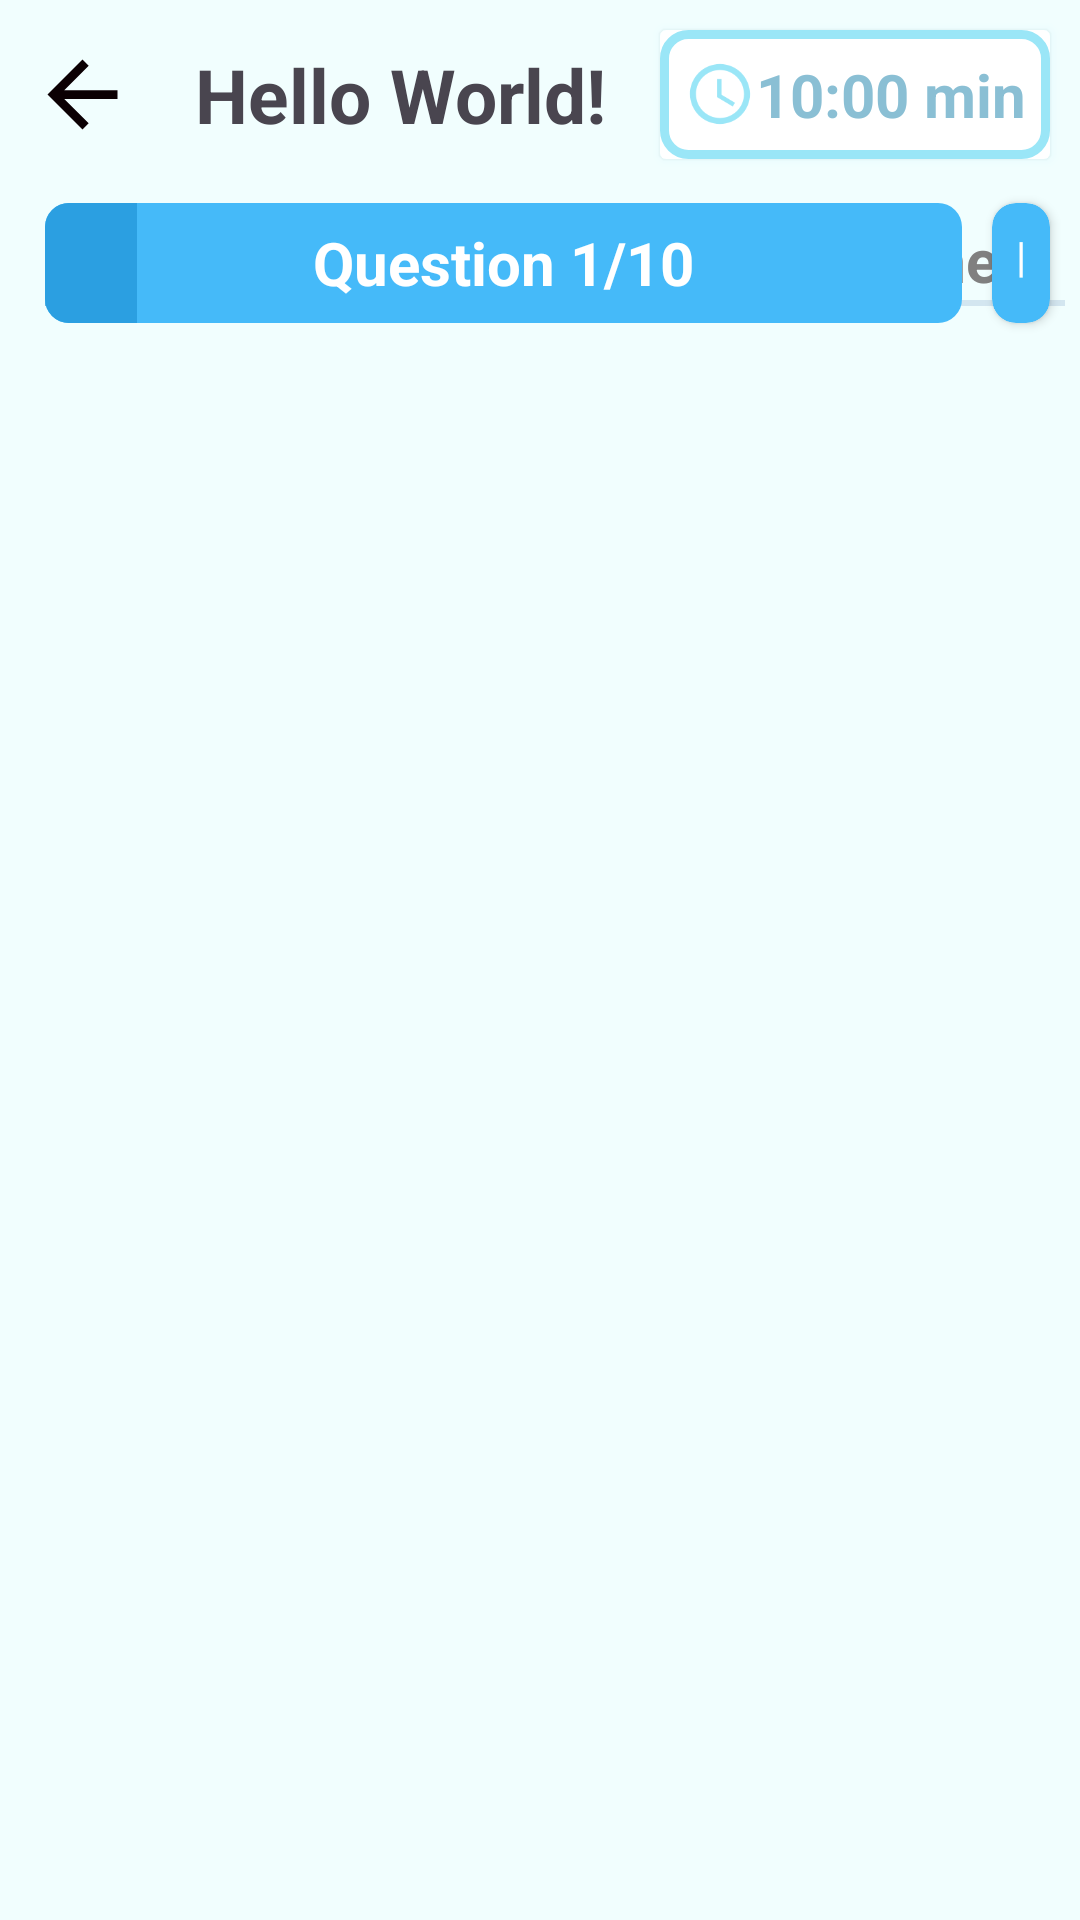

Screen size 1080 × 1920. Icon name, then its box in pixels as (x1, y1, x2, y2):
arrow back: (47, 59, 118, 130)
